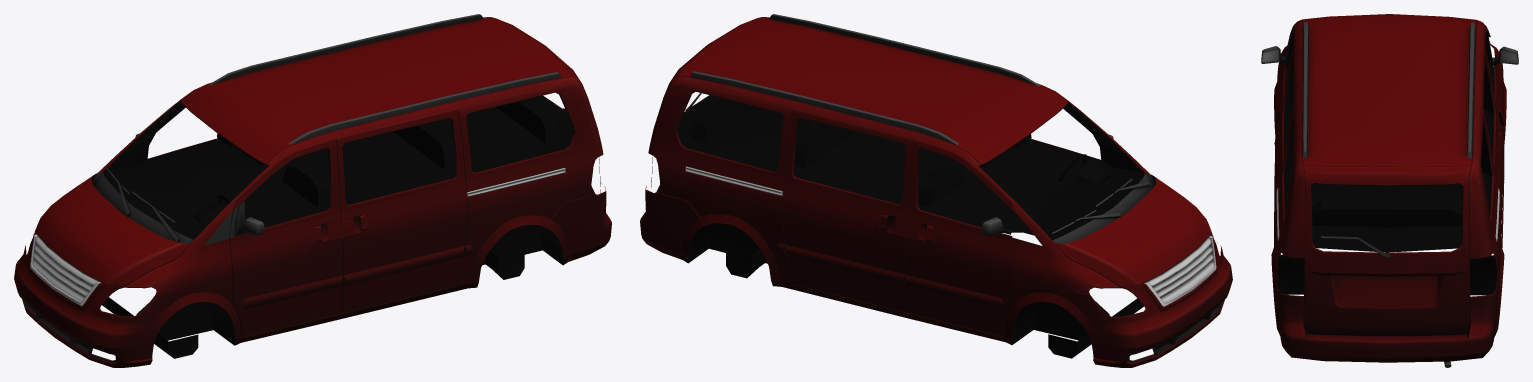
File: car1.glb
3 views of the same model, side by side, from view 1: azimuth 30°, elevation 25°; view 2: azimuth 150°, elevation 25°; view 3: azimuth 270°, elevation 25° (orthographic). The views are drawn at different scales.
Parts seen in each view (by area): view 1: minivan body_Body_0; view 2: minivan body_Body_0; view 3: minivan body_Body_0.
Part boxes in pixels (x1=…): minivan body_Body_0: x1=14, y1=14, x2=611, y2=367; minivan body_Body_0: x1=640, y1=14, x2=1232, y2=367; minivan body_Body_0: x1=1261, y1=14, x2=1518, y2=367.
Size of the model in its own units: 4.61 by 1.6 by 1.87.
Materials: 1 (1 with a texture image).
